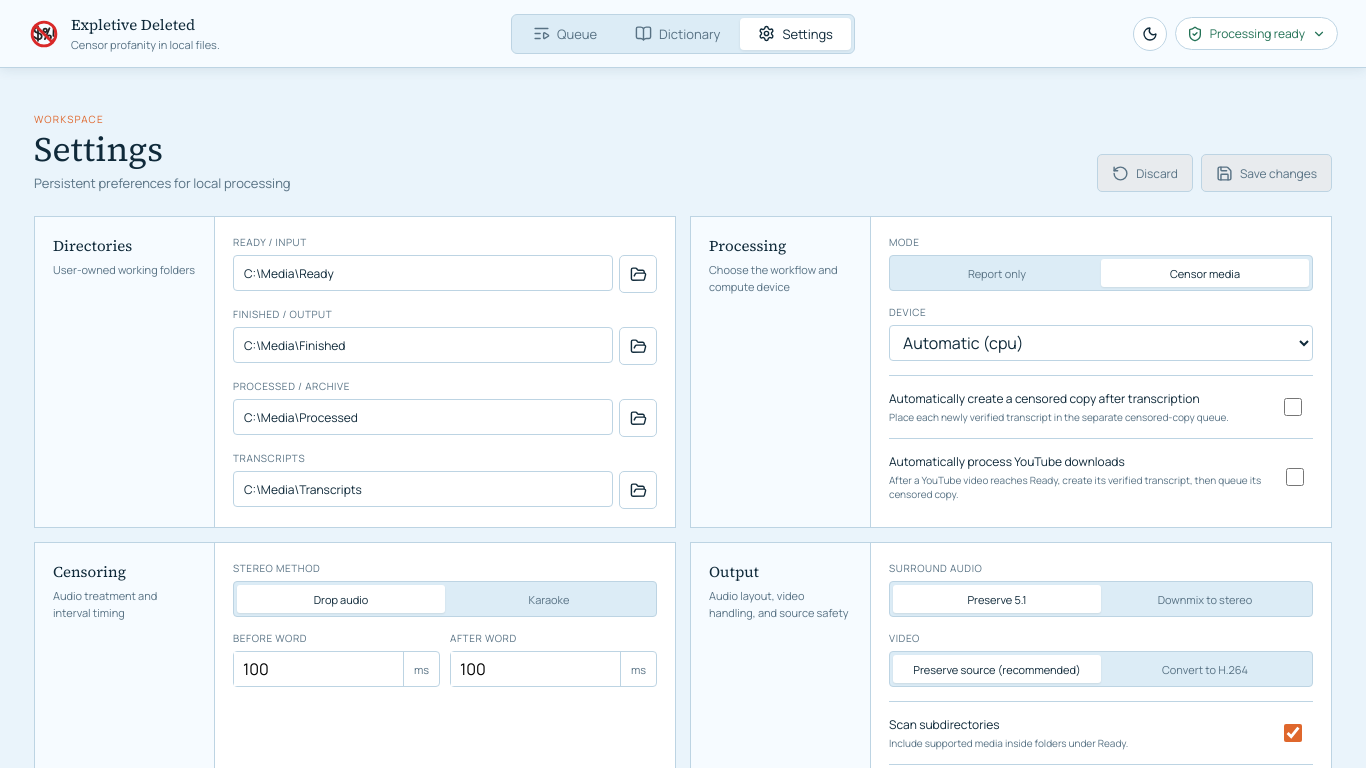
Test case: desktop application renderer › discards a draft locally and disables actions when the form is clean
What coordinates should you click on to do the following:
click the button "Karaoke"
I would click on:
 (549, 599)
Its box is x1=445 y1=585 x2=653 y2=613.
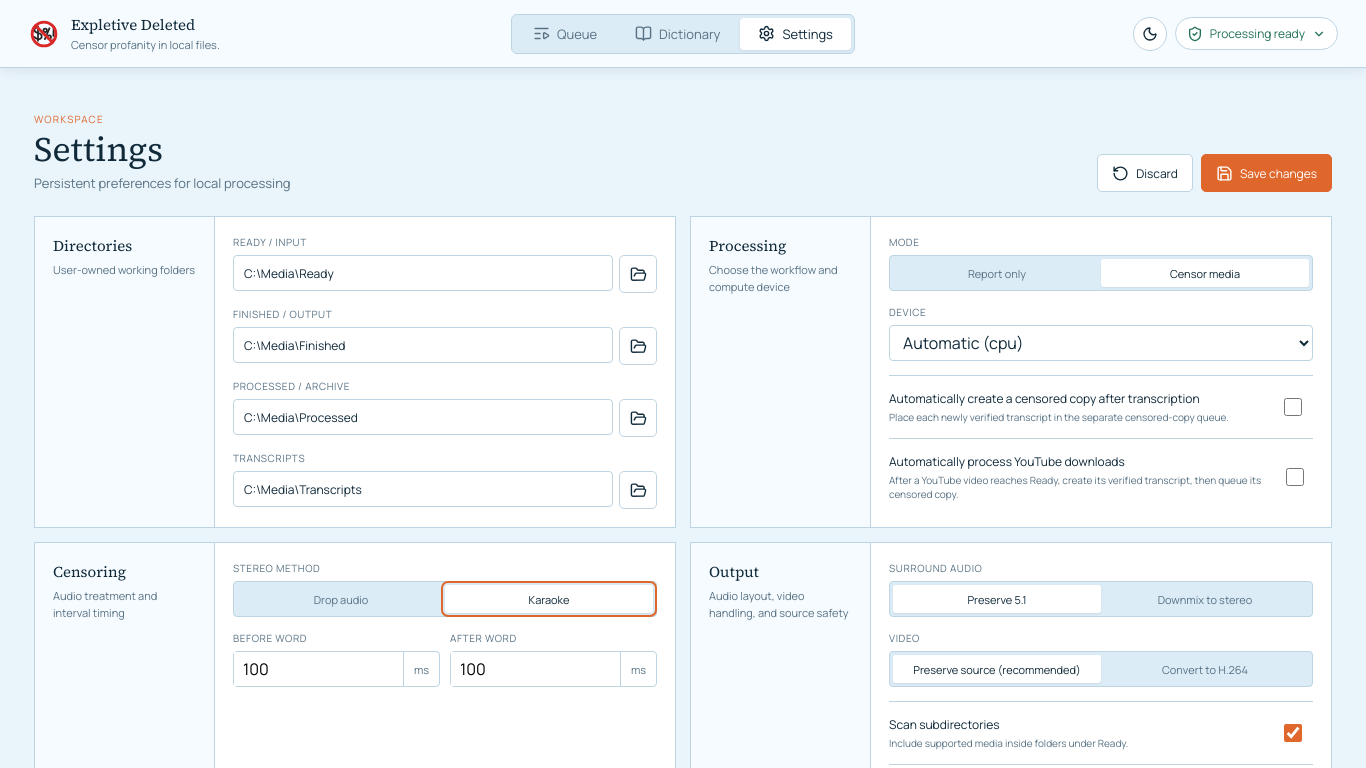
Expected: the button "Discard" is enabled
What coordinates should you click on to do the following:
click the button "Discard"
I would click on:
 (1145, 173)
Its box is x1=1097 y1=154 x2=1193 y2=192.
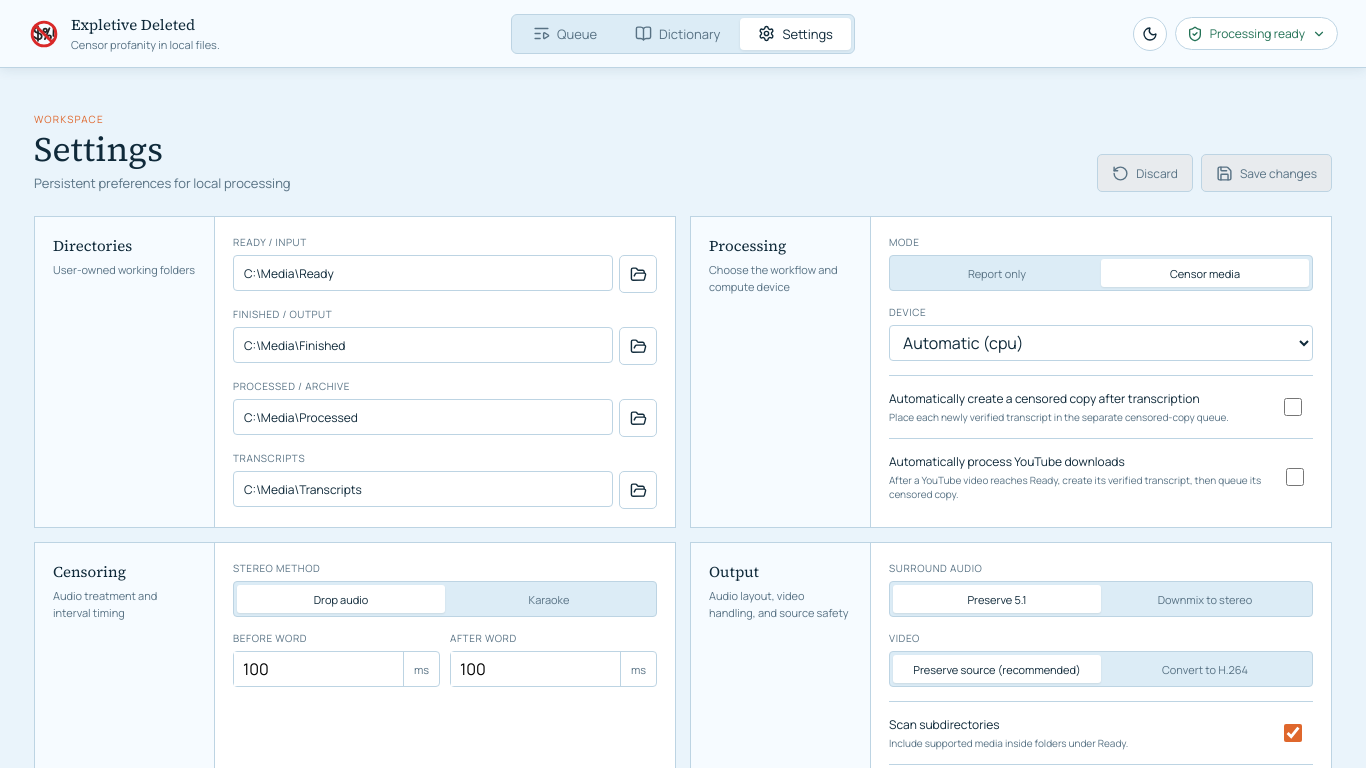
Expected: the button "Discard" is disabled, x1=1097 y1=154 x2=1193 y2=192
Expected: the button "Save changes" is disabled, x1=1201 y1=154 x2=1332 y2=192
